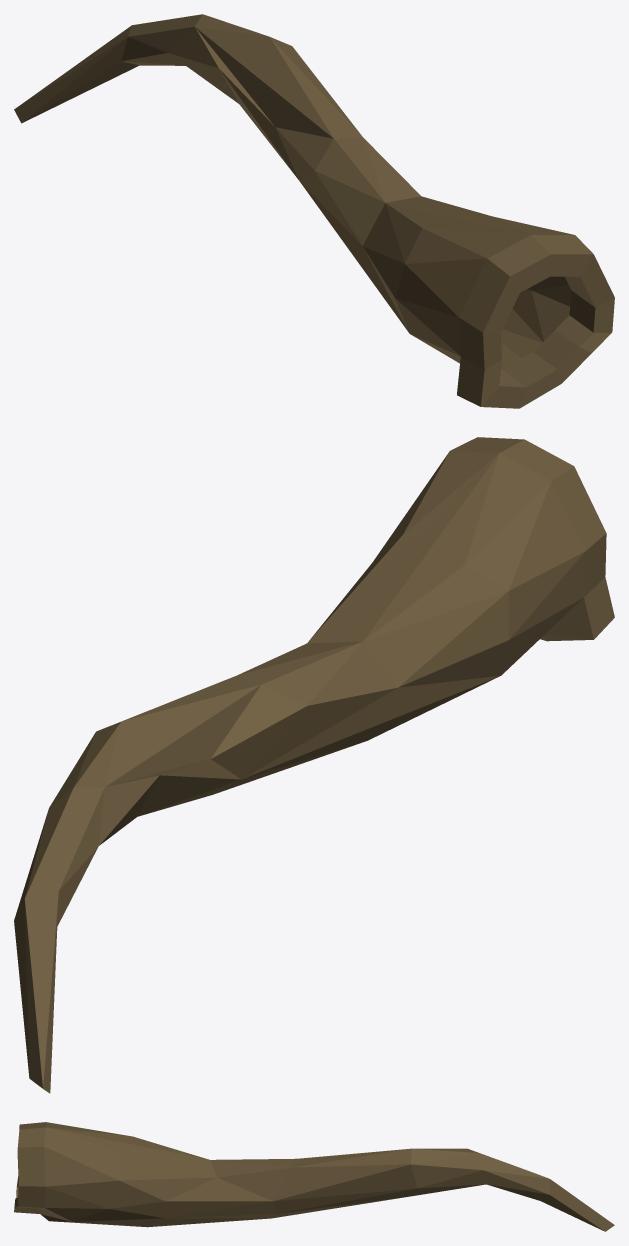
File: SM_branch_01.fbx
3 views of the same model, one above another, from view 1: azimuth 30°, elevation 25°; view 2: azimuth 150°, elevation 25°; view 3: azimuth 270°, elevation 25° (orthographic). The views are drawn at different scales.
Parts seen in each view (by area): view 1: branch_01; view 2: branch_01; view 3: branch_01.
Part boxes in pixels (left/top/right/bottom): branch_01: left=14, top=14, right=614, bottom=408; branch_01: left=14, top=437, right=614, bottom=1093; branch_01: left=14, top=1122, right=614, bottom=1231.
Bounding box in the file's own units: 37.31 × 49.01 × 215.
